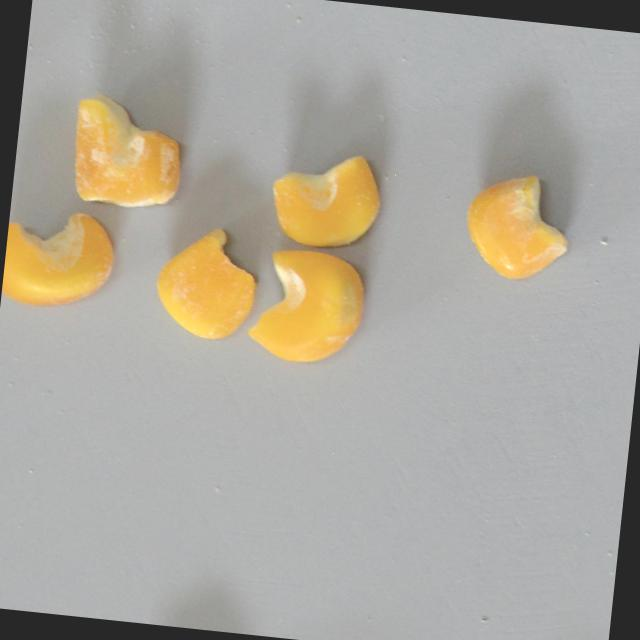no_canjicado: (245, 238, 370, 368), (148, 221, 259, 342), (264, 143, 385, 251)
pelicula: (65, 89, 187, 213), (459, 167, 573, 282), (0, 203, 119, 312)
